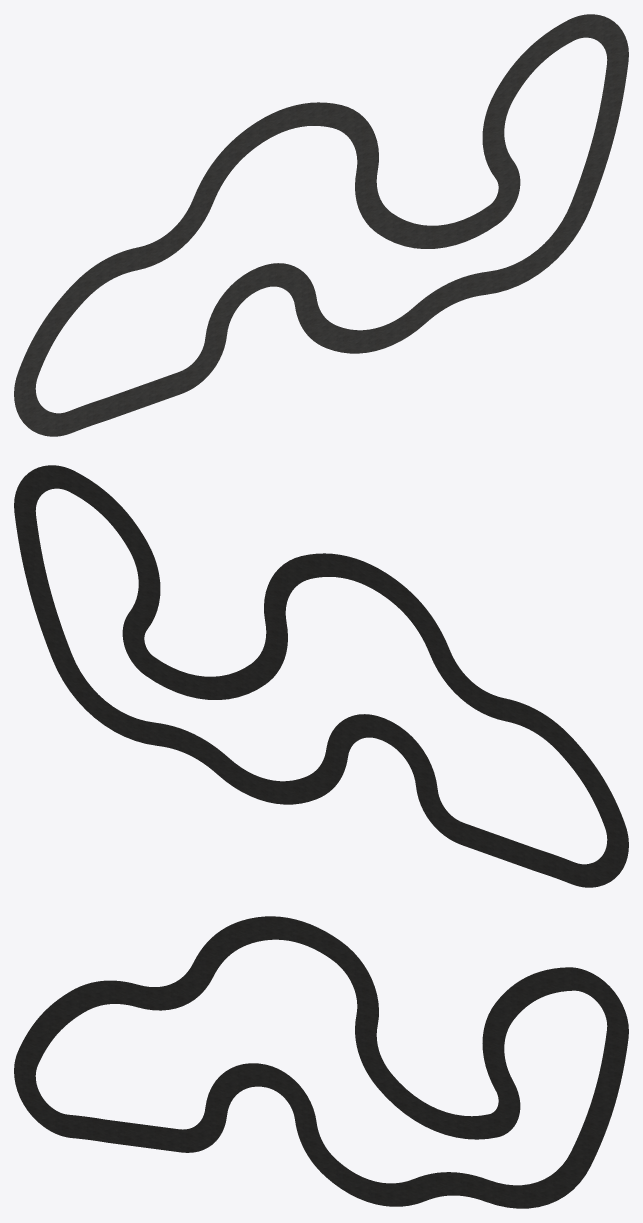
The model's file is track8_road.obj.
The picture shows the model from 3 angles, top to bottom: view 1: azimuth 30°, elevation 25°; view 2: azimuth 150°, elevation 25°; view 3: azimuth 330°, elevation 25°; orthographic projection.
Parts seen in each view (by area): view 1: road_0_curve_.003; view 2: road_0_curve_.003; view 3: road_0_curve_.003.
Part boxes in pixels (bbox=[...]): road_0_curve_.003: bbox=[14, 14, 628, 436]; road_0_curve_.003: bbox=[14, 465, 628, 887]; road_0_curve_.003: bbox=[14, 916, 628, 1208].
Bounding box in the file's own units: 46.2 × 21.1 × 0.
1 material, 1 textured.
